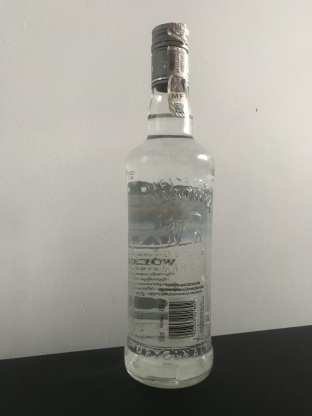nakretka: (148, 19, 191, 90)
